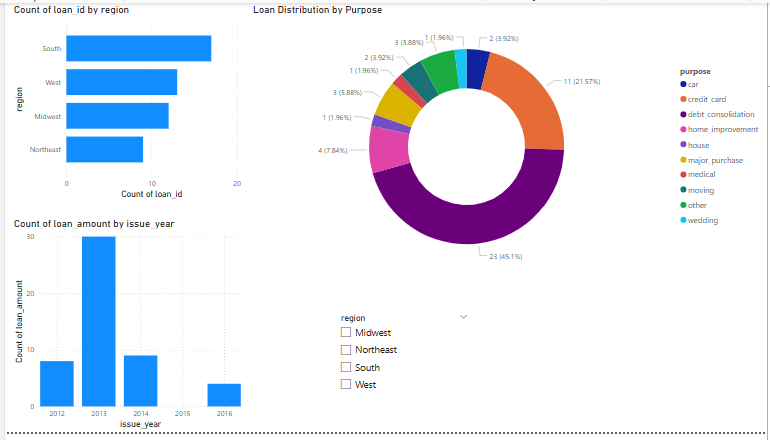

This screenshot's page, from the dashboard's own definition file:
{"tool":"powerbi","page":{"name":"Overview visuals","canvas":[1280,720],"ordinal":0},"visuals":[{"type":"barChart","fields":{"Category":["state_region.region"],"Y":["CountNonNull(loan.loan_id)"]},"box":[10.1,0,391.4,334.3],"z":0},{"type":"columnChart","fields":{"Category":["loan_count_by_year.issue_year"],"Y":["CountNonNull(loan.loan_amount)"]},"box":[10.1,359.5,391.4,361.2],"z":1},{"type":"donutChart","title":" Loan Distribution by Purpose","fields":{"Series":["loan.purpose"],"Y":["CountNonNull(loan.loan_id)"]},"box":[411.5,0,868.5,463.6],"z":2},{"type":"slicer","fields":{"Values":["state_region.region"]},"box":[551,515.7,238.5,204.9],"z":3}]}

Visuals, with their boxes in screenshot pixels (x1, y1, x2, y2), scaled from the page's 1280x720 canvas onto the 770x440 screenshot:
barChart - state_region.region x CountNonNull(loan.loan_id): [6,0,242,204]
columnChart - loan_count_by_year.issue_year x CountNonNull(loan.loan_amount): [6,220,242,439]
" Loan Distribution by Purpose" donutChart: [248,0,769,283]
slicer - state_region.region: [331,315,475,439]
